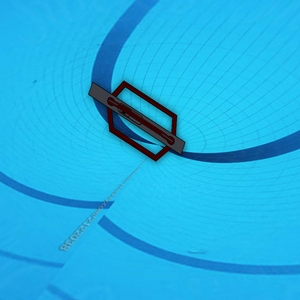submarine: (90, 83, 186, 164)
